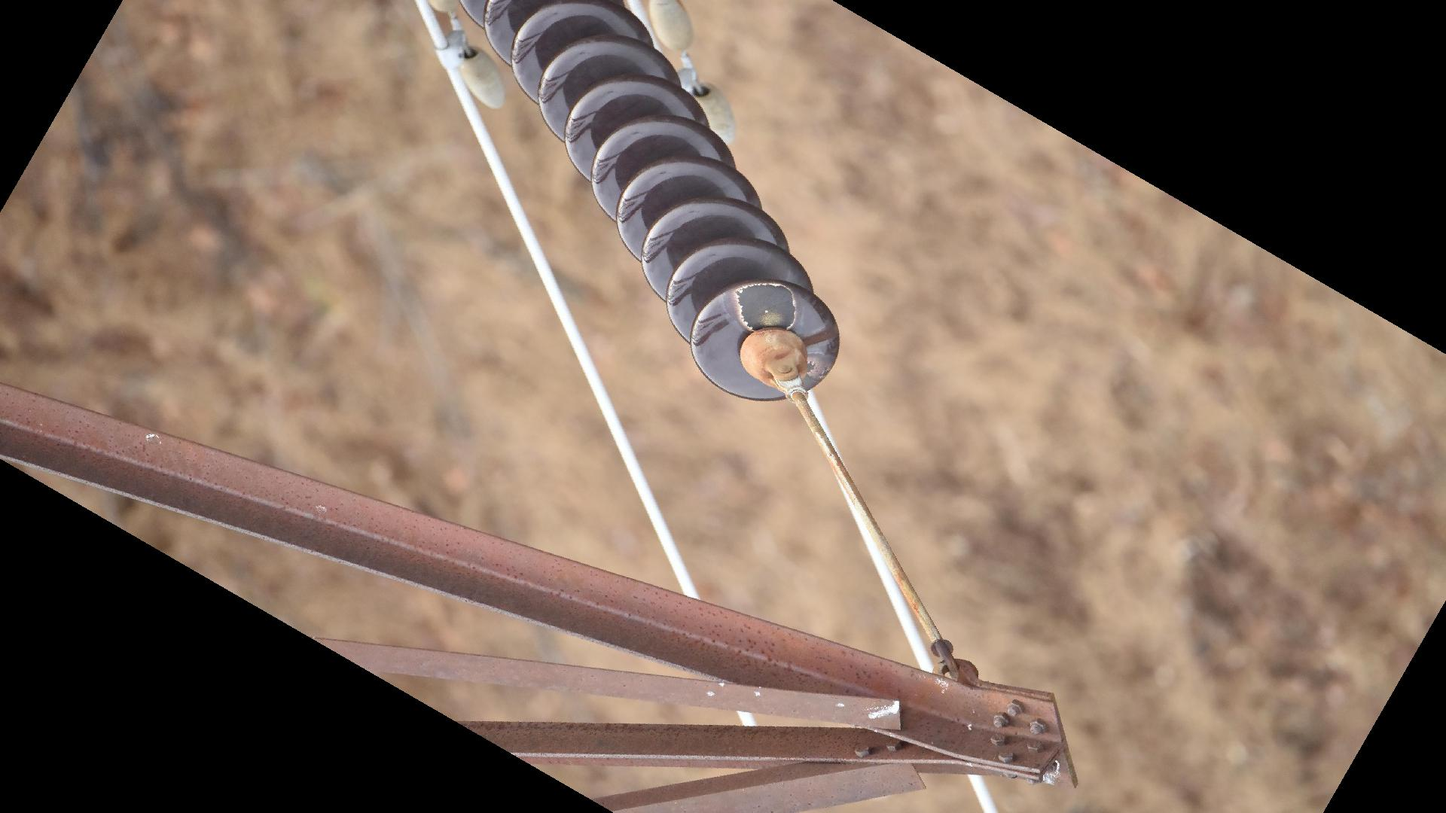insulator: (438, 1, 845, 410)
insulator_flashover: (734, 280, 800, 333)
